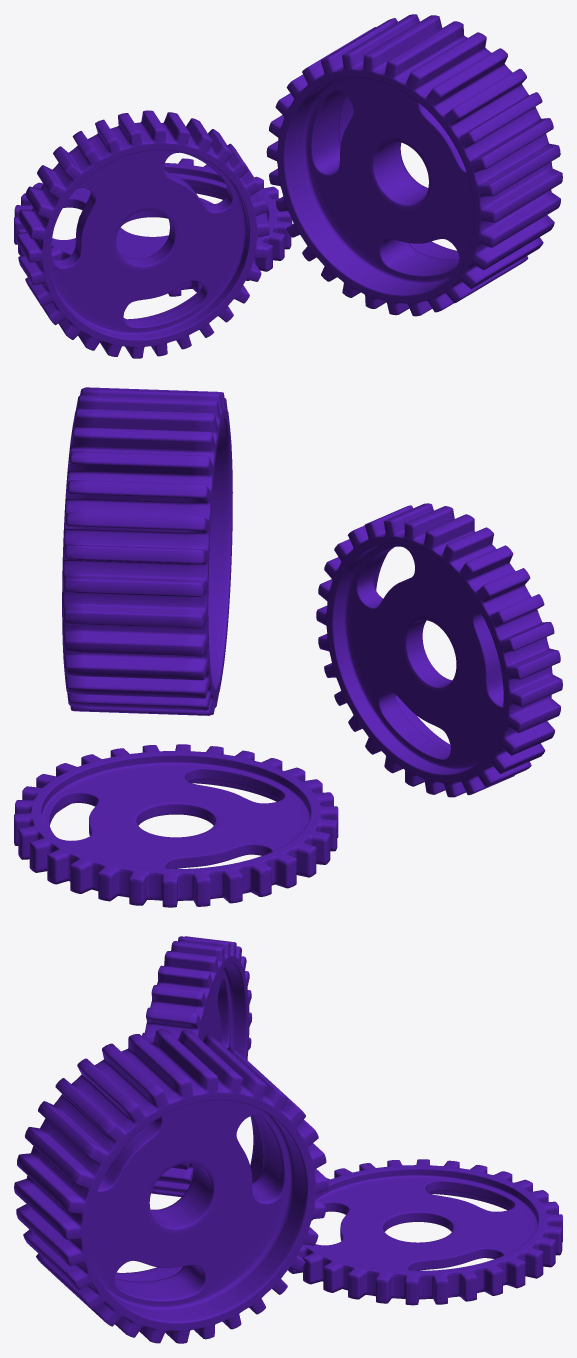
The model's file is Gear.obj.
3 renders of one model, top to bottom at view 1: azimuth 30°, elevation 25°; view 2: azimuth 150°, elevation 25°; view 3: azimuth 270°, elevation 25°, orthographic. The views are drawn at different scales.
Parts seen in each view (by area): view 1: Cylinder008, Cylinder007, Cylinder006; view 2: Cylinder008, Cylinder007, Cylinder006; view 3: Cylinder008, Cylinder006, Cylinder007.
Boxes of the visible parts, x1=… form: Cylinder008: x1=266, y1=14, x2=562, y2=316; Cylinder007: x1=16, y1=110, x2=269, y2=358; Cylinder006: x1=14, y1=158, x2=292, y2=296; Cylinder008: x1=62, y1=387, x2=232, y2=715; Cylinder007: x1=316, y1=503, x2=562, y2=797; Cylinder006: x1=14, y1=744, x2=338, y2=907; Cylinder008: x1=14, y1=1029, x2=328, y2=1343; Cylinder006: x1=288, y1=1159, x2=562, y2=1305; Cylinder007: x1=142, y1=936, x2=252, y2=1196.
Bounding box in the file's own units: 47.04 × 24.18 × 45.8.
